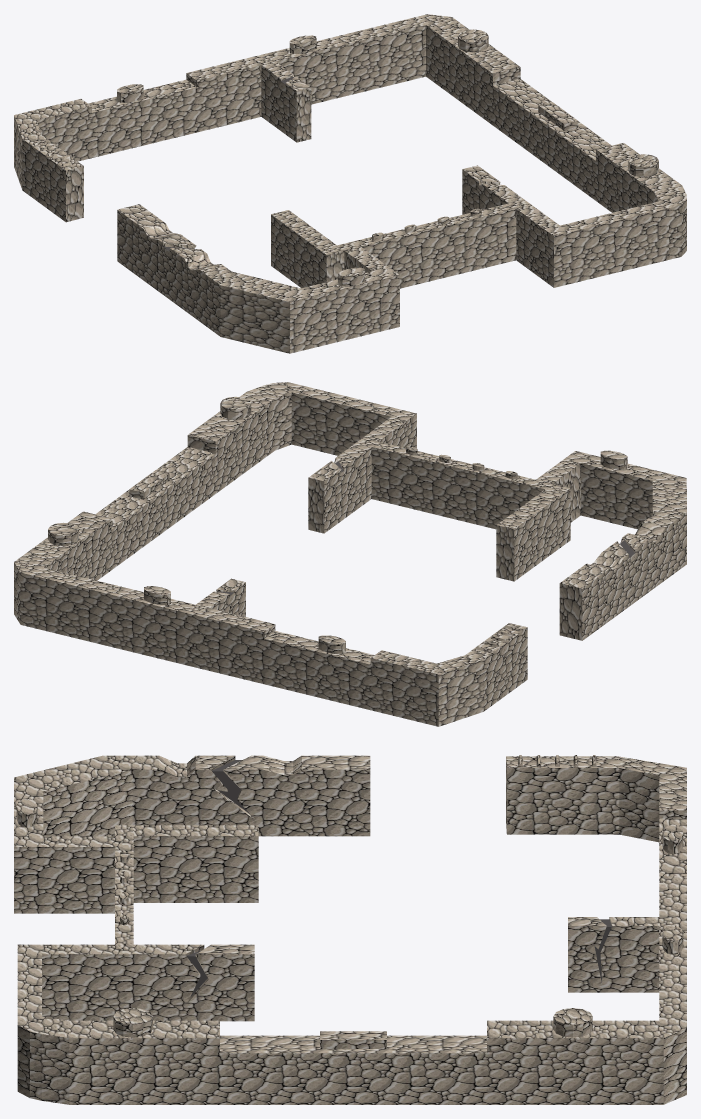
The model's file is wall1.fbx.
3 views of the same model, one above another, from view 1: azimuth 30°, elevation 25°; view 2: azimuth 150°, elevation 25°; view 3: azimuth 270°, elevation 25° (orthographic). The views are drawn at different scales.
Parts seen in each view (by area): view 1: 1; view 2: 1; view 3: 1.
Part boxes in pixels (x1,y1,x2,y2): 1: (14, 14, 686, 353); 1: (14, 382, 686, 726); 1: (14, 755, 686, 1104).
Bounding box in the file's own units: 1211 × 159 × 1218.
